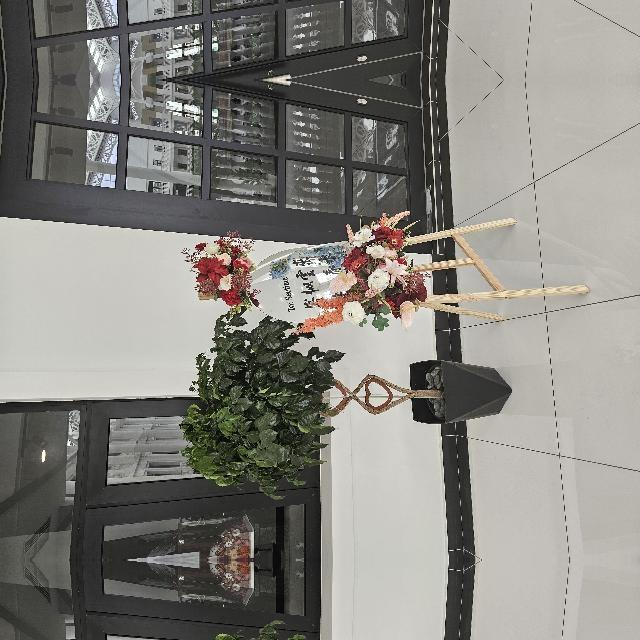door: (311, 80, 479, 518), (311, 0, 479, 80), (311, 602, 479, 640)
obstacle: (60, 258, 256, 592), (229, 265, 345, 640), (60, 527, 256, 640), (229, 451, 345, 640), (135, 488, 201, 592), (135, 528, 201, 632)
